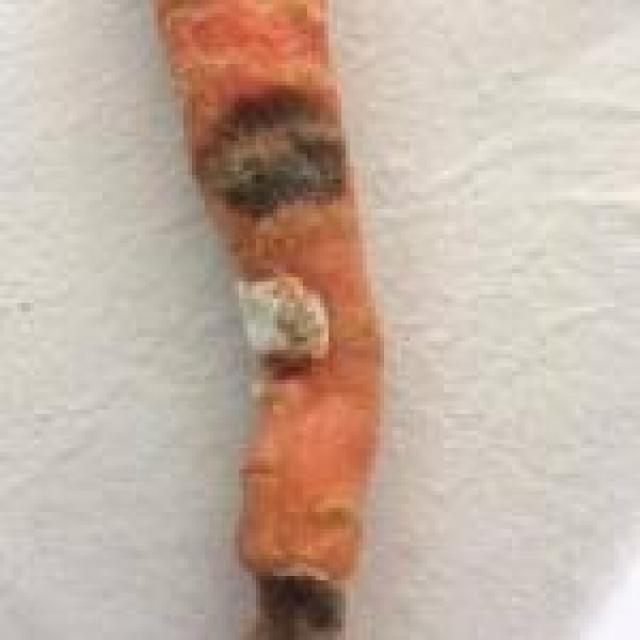Stale_Carrot: (153, 0, 388, 612)
